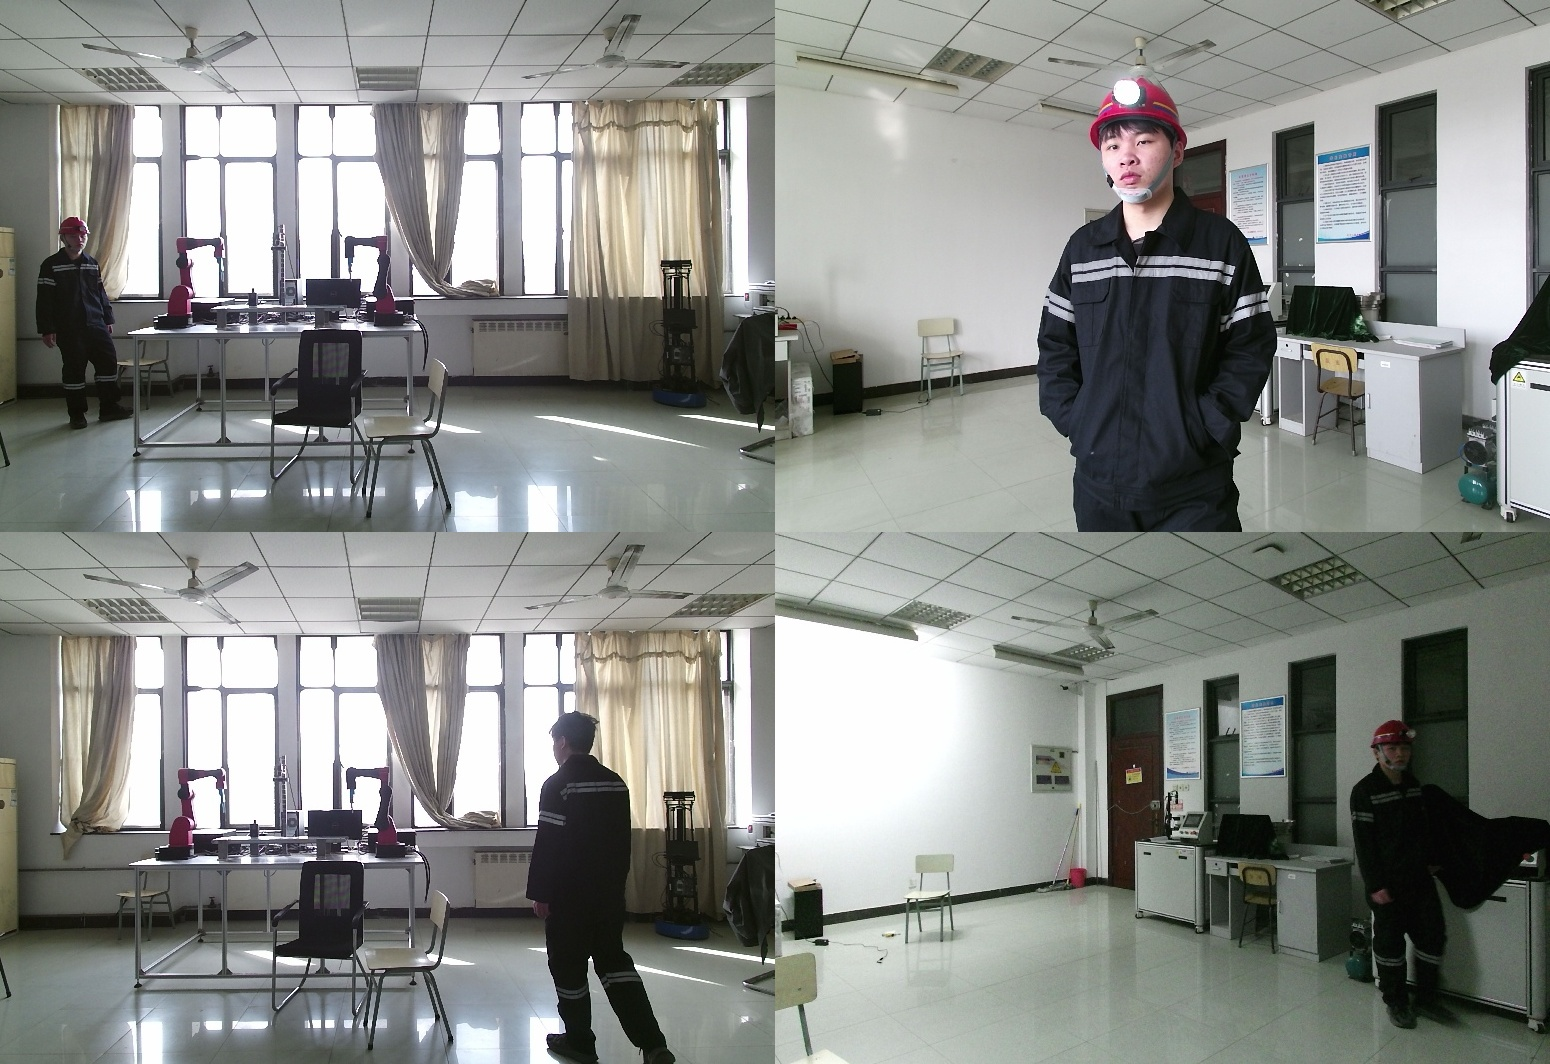person: (1039, 78, 1296, 532), (530, 710, 675, 1064), (1349, 721, 1442, 1028), (31, 219, 134, 429)
